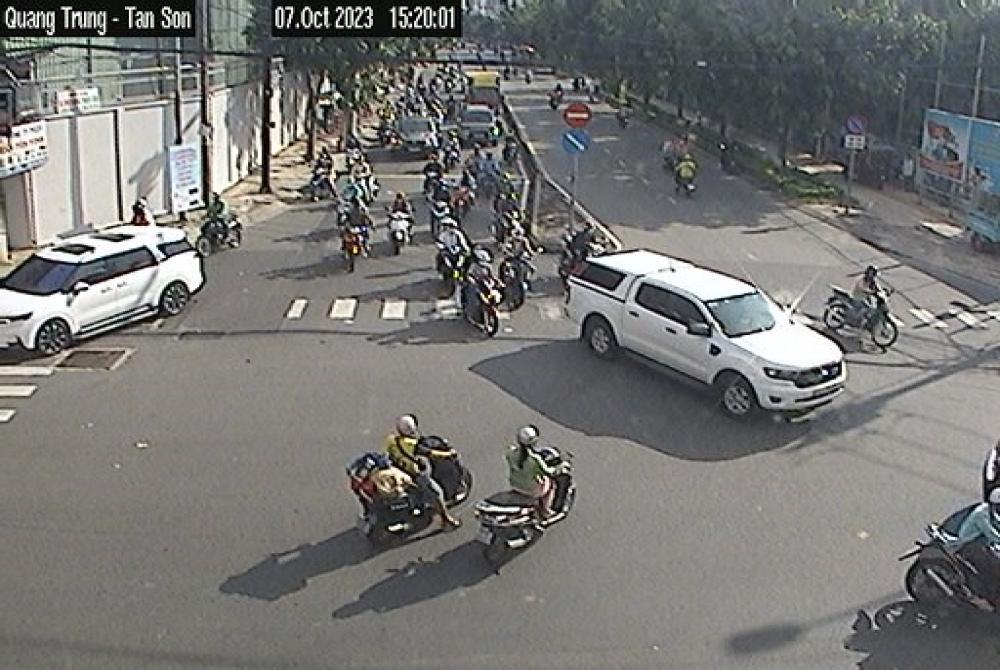car: (546, 249, 850, 423), (0, 222, 203, 351)
motorbike: (483, 448, 583, 556), (371, 436, 469, 540)
